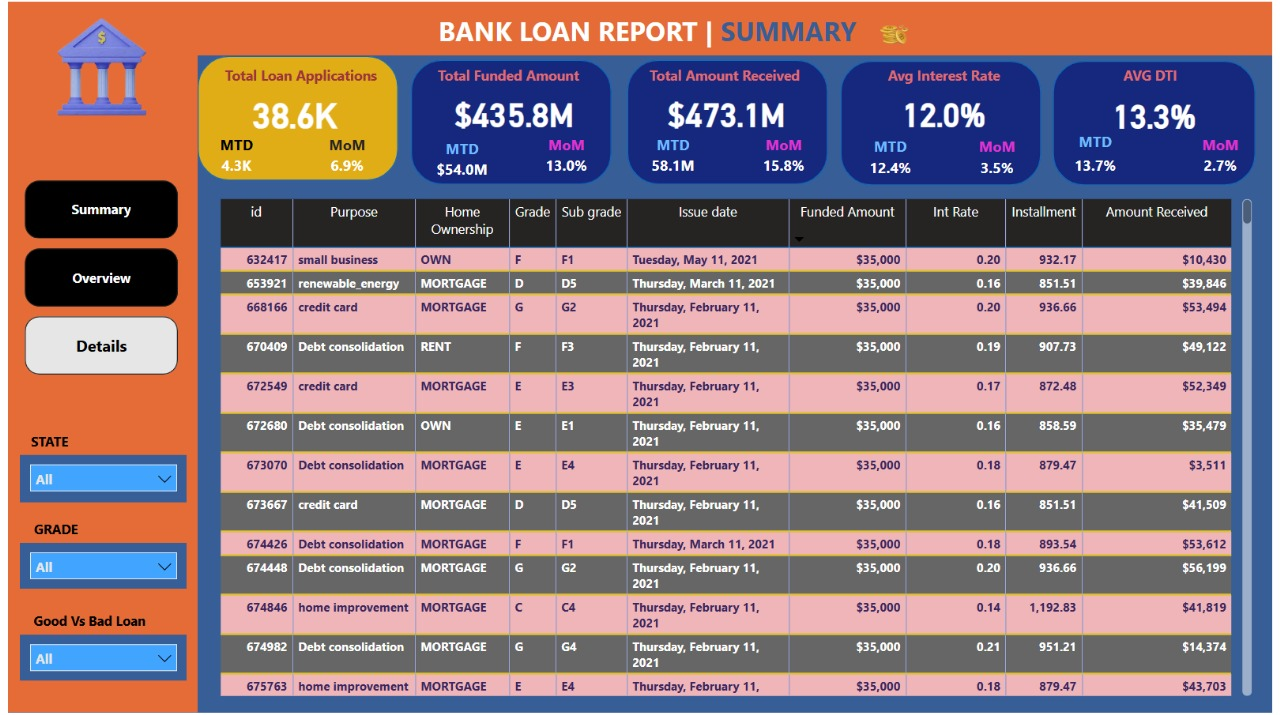

The dashboard page shown, as its layout file describes it:
{"tool":"powerbi","page":{"name":"Details","canvas":[1280,720],"ordinal":2},"visuals":[{"type":"shape","box":[0,45.6,192.1,674.8],"z":0},{"type":"shape","box":[0,0,1280.3,54.9],"z":1000},{"type":"shape","box":[192.1,55.2,202.9,126.1],"z":2000},{"type":"textbox","box":[431.1,6,453.9,49.2],"z":3000},{"type":"card","fields":{"Values":["financial_loan.Total Loan Applications"]},"box":[237.7,91.3,105.7,43.2],"z":4000},{"type":"textbox","box":[198.1,60,196.9,31.2],"z":5000},{"type":"card","title":"MTD","fields":{"Values":["financial_loan.MTD Loan Applications"]},"box":[198.1,134.5,67.2,46.8],"z":6000},{"type":"card","title":"MoM","fields":{"Values":["financial_loan.MoM Loan Applications"]},"box":[315.8,134.5,55.2,46.8],"z":7000},{"type":"shape","box":[408.3,58.8,202.9,126.1],"z":8000},{"type":"card","fields":{"Values":["financial_loan.Total Funded Amount"]},"box":[439.5,91.3,146.5,43.2],"z":9000},{"type":"textbox","box":[408.3,60,196.9,31.2],"z":10000},{"type":"card","title":"MTD","fields":{"Values":["financial_loan.MTD Funded Amount"]},"box":[426.3,138.1,67.2,46.8],"z":11000},{"type":"card","title":"MoM","fields":{"Values":["financial_loan.MoM Total Funded Amount"]},"box":[537.9,134.5,55.2,46.8],"z":12000},{"type":"shape","box":[626.8,58.8,202.9,126.1],"z":13000},{"type":"textbox","box":[626.8,60,196.9,31.2],"z":14000},{"type":"card","fields":{"Values":["financial_loan.Total Amount Received"]},"box":[654.4,91.3,146.5,43.2],"z":15000},{"type":"card","title":"MTD","fields":{"Values":["financial_loan.MTD Received Amount"]},"box":[640,134.5,67.2,46.8],"z":16000},{"type":"card","title":"MoM","fields":{"Values":["financial_loan.MoM Received Amount"]},"box":[757.7,134.5,55.2,46.8],"z":17000},{"type":"shape","box":[842.9,60,202.9,126.1],"z":18000},{"type":"textbox","box":[848.9,60,196.9,31.2],"z":20000},{"type":"shape","box":[1057.9,60,205.3,126.1],"z":21000},{"type":"textbox","box":[1057.9,60,196.9,31.2],"z":22000},{"type":"card","fields":{"Values":["financial_loan.Avg Intrest Rate"]},"box":[874.1,91.3,146.5,43.2],"z":23000},{"type":"card","title":"MTD","fields":{"Values":["financial_loan.MTD Avg Int Rate"]},"box":[859.7,135.7,67.2,46.8],"z":24000},{"type":"card","title":"MoM","fields":{"Values":["financial_loan.MoM Avg Int Rate"]},"box":[973.8,135.7,55.2,46.8],"z":25000},{"type":"card","fields":{"Values":["financial_loan.AVG DTI"]},"box":[1087.2,91.9,146.5,44.2],"z":26000},{"type":"card","title":"MTD","fields":{"Values":["financial_loan.MTD AVG DTI"]},"box":[1067.5,130.9,67.2,54],"z":27000},{"type":"card","title":"MoM","fields":{"Values":["financial_loan.MoM AVG DTI"]},"box":[1199.5,134.5,55.2,46.8],"z":28000},{"type":"textbox","box":[11.6,431.4,60.5,27.9],"z":29000},{"type":"slicer","fields":{"Values":["financial_loan.address_state"]},"box":[11.6,459.3,169.8,47.7],"z":30000},{"type":"slicer","fields":{"Values":["financial_loan.grade"]},"box":[11.6,547.7,169.8,47.7],"z":31000},{"type":"textbox","box":[11.6,519.8,73.3,27.9],"z":32000},{"type":"slicer","fields":{"Values":["financial_loan.Good Vs Bad Loan"]},"box":[11.6,640.7,169.8,47.7],"z":33000},{"type":"textbox","box":[11.6,612.8,141.9,27.9],"z":34000},{"type":"tableEx","fields":{"Values":["financial_loan.id","financial_loan.purpose","financial_loan.home_ownership","financial_loan.grade","financial_loan.sub_grade","financial_loan.issue_date","financial_loan.Total Funded Amount","Sum(financial_loan.int_rate)","Sum(financial_loan.installment)","financial_loan.Total Amount Received"]},"box":[209.3,195.3,1054.7,512.8],"z":37000},{"type":"image","box":[17.4,8.1,154.7,115.1],"z":37001},{"type":"image","box":[823.3,0,146.5,60.5],"z":37002},{"type":"pageNavigator","box":[17.4,181.4,154.7,198.8],"z":37003}]}

Visuals, with their boxes in screenshot pixels (x1, y1, x2, y2), scaled from the page's 1280x720 canvas onto the 1280x715 screenshot:
shape: box=[0, 45, 192, 714]
shape: box=[0, 0, 1279, 55]
shape: box=[192, 55, 395, 180]
textbox: box=[431, 6, 885, 55]
card - financial_loan.Total Loan Applications: box=[238, 91, 343, 134]
textbox: box=[198, 60, 395, 91]
"MTD" card: box=[198, 134, 265, 180]
"MoM" card: box=[316, 134, 371, 180]
shape: box=[408, 58, 611, 184]
card - financial_loan.Total Funded Amount: box=[440, 91, 586, 134]
textbox: box=[408, 60, 605, 91]
"MTD" card: box=[426, 137, 494, 184]
"MoM" card: box=[538, 134, 593, 180]
shape: box=[627, 58, 830, 184]
textbox: box=[627, 60, 824, 91]
card - financial_loan.Total Amount Received: box=[654, 91, 801, 134]
"MTD" card: box=[640, 134, 707, 180]
"MoM" card: box=[758, 134, 813, 180]
shape: box=[843, 60, 1046, 185]
textbox: box=[849, 60, 1046, 91]
shape: box=[1058, 60, 1263, 185]
textbox: box=[1058, 60, 1255, 91]
card - financial_loan.Avg Intrest Rate: box=[874, 91, 1021, 134]
"MTD" card: box=[860, 135, 927, 181]
"MoM" card: box=[974, 135, 1029, 181]
card - financial_loan.AVG DTI: box=[1087, 91, 1234, 135]
"MTD" card: box=[1068, 130, 1135, 184]
"MoM" card: box=[1200, 134, 1255, 180]
textbox: box=[12, 428, 72, 456]
slicer - financial_loan.address_state: box=[12, 456, 181, 503]
slicer - financial_loan.grade: box=[12, 544, 181, 591]
textbox: box=[12, 516, 85, 544]
slicer - financial_loan.Good Vs Bad Loan: box=[12, 636, 181, 684]
textbox: box=[12, 609, 154, 636]
tableEx - financial_loan.id x financial_loan.purpose: box=[209, 194, 1264, 703]
image: box=[17, 8, 172, 122]
image: box=[823, 0, 970, 60]
pageNavigator: box=[17, 180, 172, 378]
